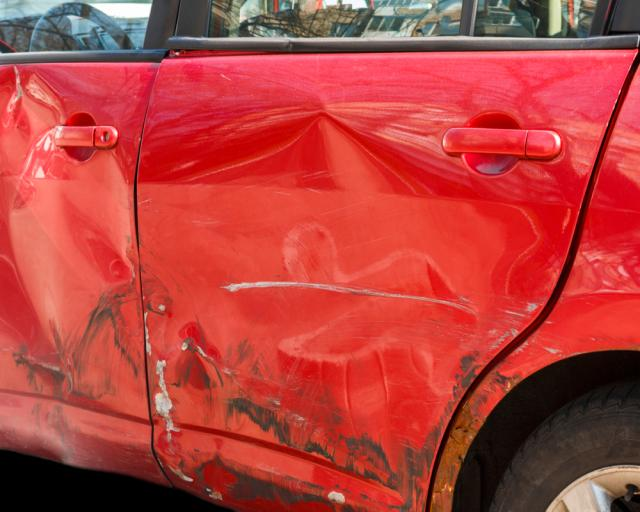dent: (145, 107, 509, 500), (0, 64, 135, 355)
scratch: (164, 366, 440, 512), (426, 323, 576, 512), (12, 281, 144, 450)
